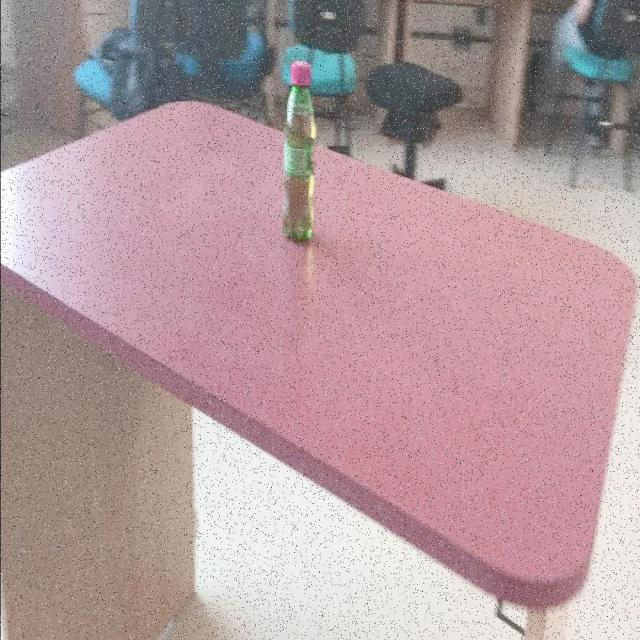Guarana: (1, 87, 640, 612), (282, 61, 318, 247)
